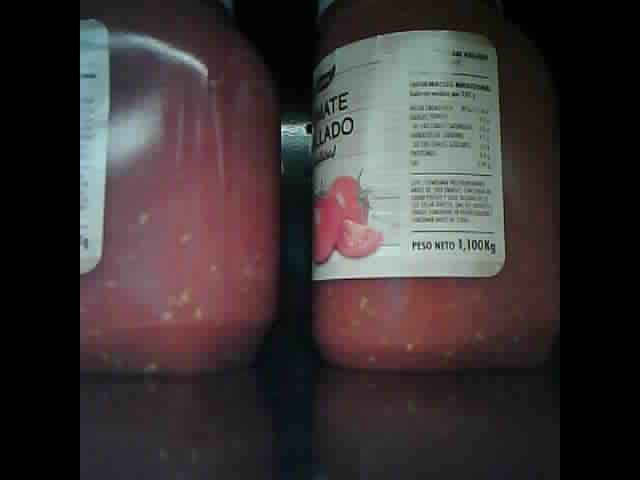tomate: (311, 2, 560, 369), (83, 4, 277, 373)
